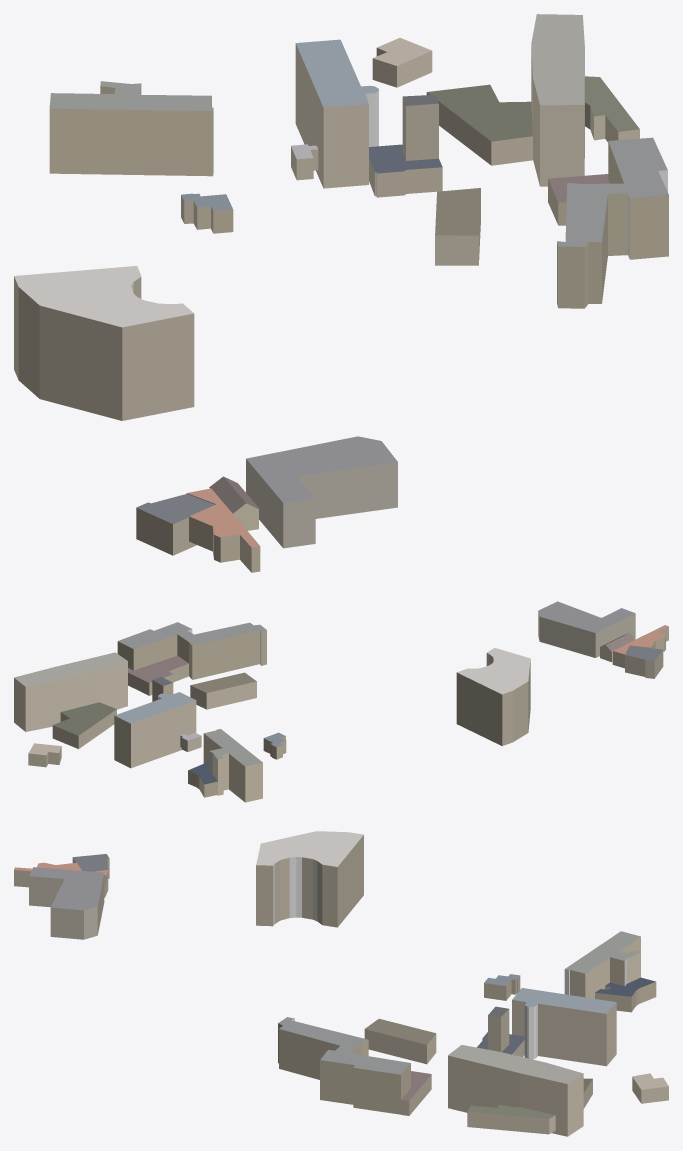
The picture shows the model from 3 angles, top to bottom: view 1: azimuth 30°, elevation 25°; view 2: azimuth 150°, elevation 25°; view 3: azimuth 270°, elevation 25°; orthographic projection. The views are drawn at different scales.
Parts seen in each view (by area): view 1: tuile; view 2: tuile; view 3: tuile.
Boxes of the visible parts, bbox=[...] form: tuile: bbox=[14, 14, 668, 572]; tuile: bbox=[14, 601, 668, 802]; tuile: bbox=[14, 831, 668, 1136].
Size of the model in its own units: 244 by 32.78 by 265.
